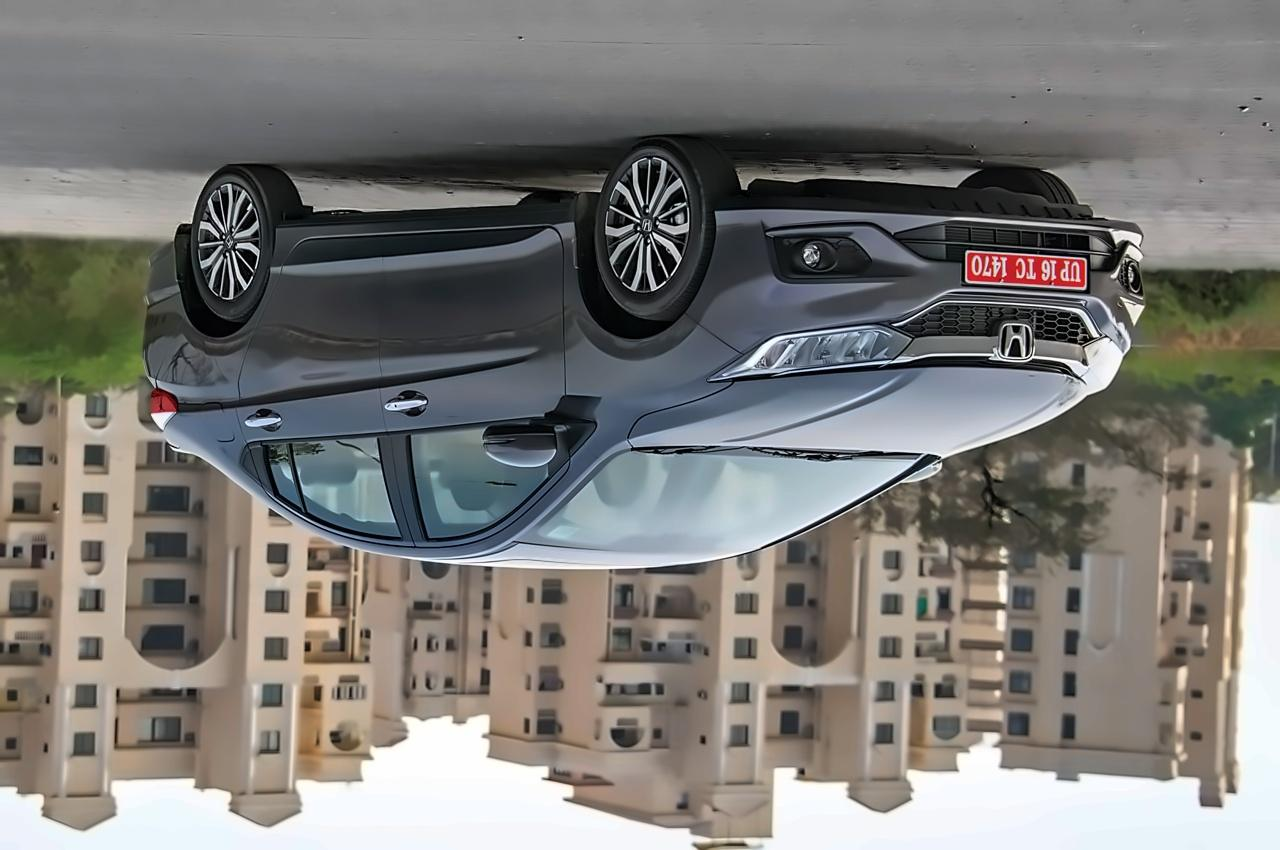Car hood: (629, 366, 1096, 455)
Fender - -F-L-: (552, 212, 743, 451)
Fender - -R-L-: (134, 227, 292, 429)
Front bumper: (682, 174, 1153, 349)
Headlight - -L-: (706, 316, 922, 385)
Headlight - -R-: (1086, 332, 1128, 394)
Passenger-s door - -F-L-: (369, 180, 590, 576)
Passenger-s door - -R-L-: (223, 186, 428, 571)
Rear bumper: (142, 216, 187, 310)
Rear light - -L-: (146, 376, 179, 439)
Side bumper - -L-: (247, 192, 593, 272)
Side mirror - -L-: (475, 410, 584, 472)
